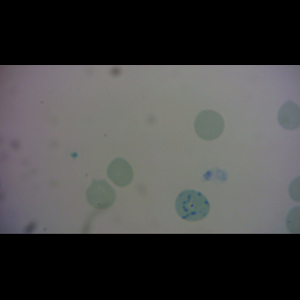aggregate reticulocyte: (174, 189, 212, 222)
erythrocyte: (193, 110, 226, 141), (106, 157, 134, 188), (277, 99, 300, 133)
punctate reticulocyte: (85, 179, 118, 210)
